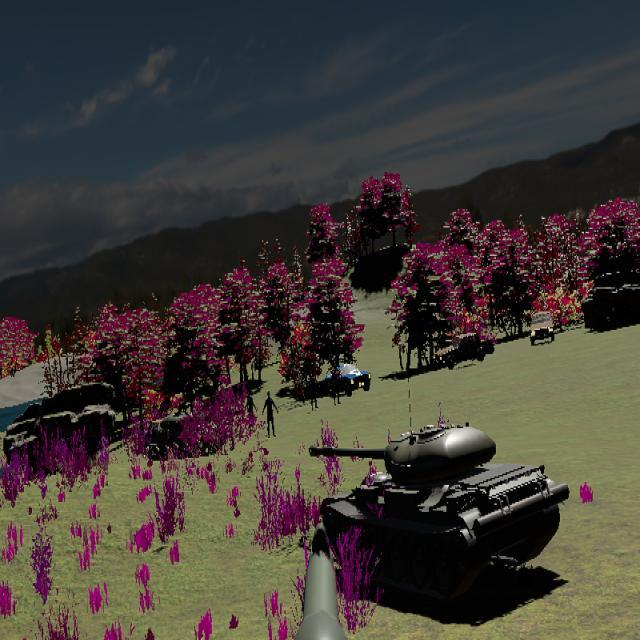Tank: (308, 420, 570, 604)
car: (434, 332, 493, 370), (529, 311, 555, 346)
